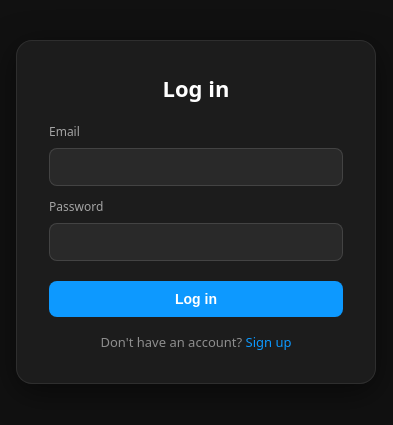
it: LoginPage › shows error message on login failure
The image size is (393, 425).
Type "a@b.com" into the field labelled "Email". click: (196, 167)
box: [49,148,343,186]
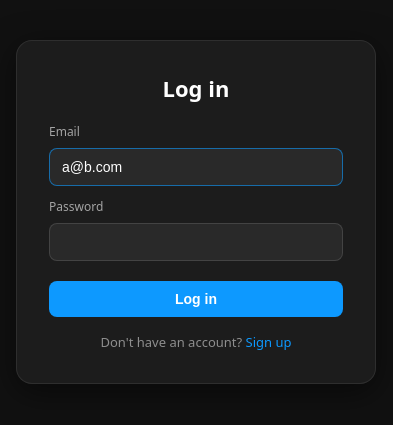
Type "wrong" into the password field labelled "Password". click: (196, 242)
box: [49,223,343,261]
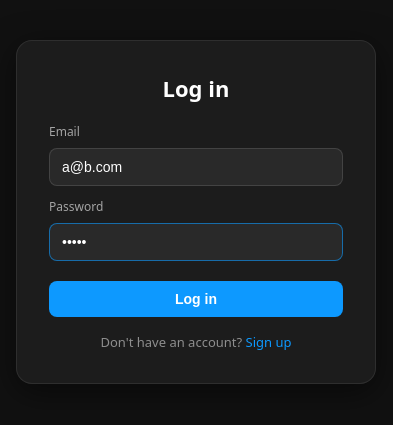
Click the button "Log in". click: click(196, 299)
box: [49,281,343,317]
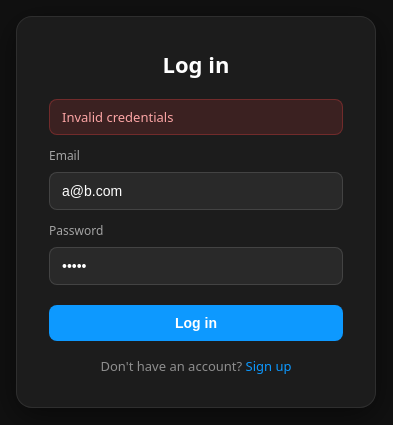
Expected: the message reads "Invalid credentials", [62,108,173,126]
